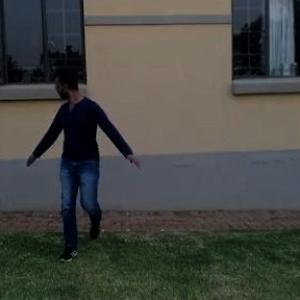land: (16, 51, 140, 266)
